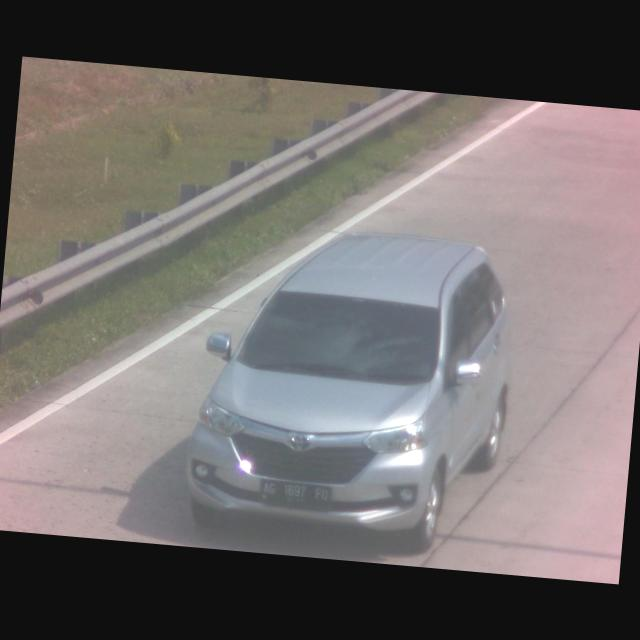plate: (256, 473, 335, 511)
